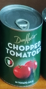tomatoes: (1, 3, 43, 88)
